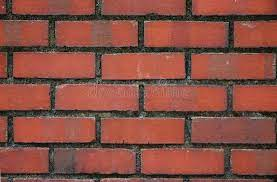brick: (54, 82, 141, 113), (142, 82, 229, 113), (99, 116, 186, 146), (190, 51, 277, 80), (190, 116, 277, 145), (11, 51, 97, 80), (11, 115, 97, 144), (53, 147, 138, 176), (143, 20, 231, 48), (100, 52, 187, 80), (140, 148, 227, 176), (54, 20, 139, 48), (1, 81, 52, 113), (1, 18, 51, 48), (229, 147, 277, 177), (1, 146, 50, 175), (100, 1, 188, 17), (10, 1, 97, 17), (190, 1, 277, 16), (232, 83, 277, 112), (233, 20, 277, 48)
